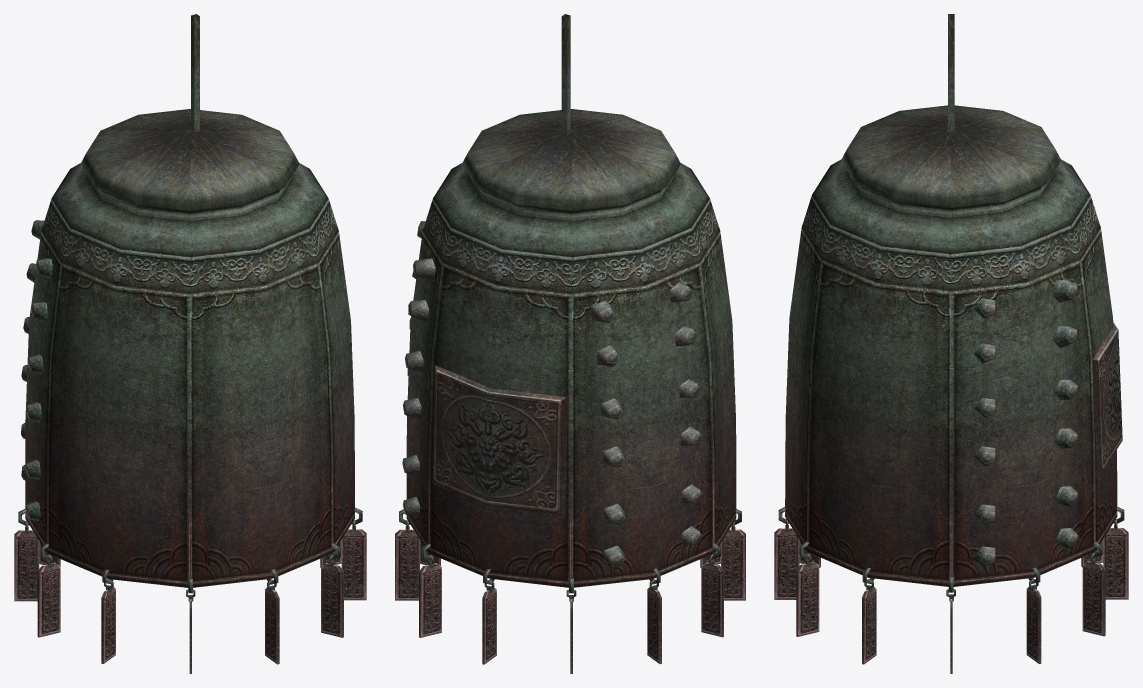
File: dmw_bossroom_bell.fbx
3 renders of one model, left to right at view 1: azimuth 30°, elevation 25°; view 2: azimuth 150°, elevation 25°; view 3: azimuth 270°, elevation 25°, orthographic.
Visible parts, largest first — view 1: dmw_boss_bell01; view 2: dmw_boss_bell01; view 3: dmw_boss_bell01.
Part boxes in pixels (<box>): dmw_boss_bell01: <box>14,14,366,673</box>; dmw_boss_bell01: <box>395,14,745,673</box>; dmw_boss_bell01: <box>774,14,1128,673</box>.
Bounding box in the file's own units: 11.55 × 21.12 × 11.56.
